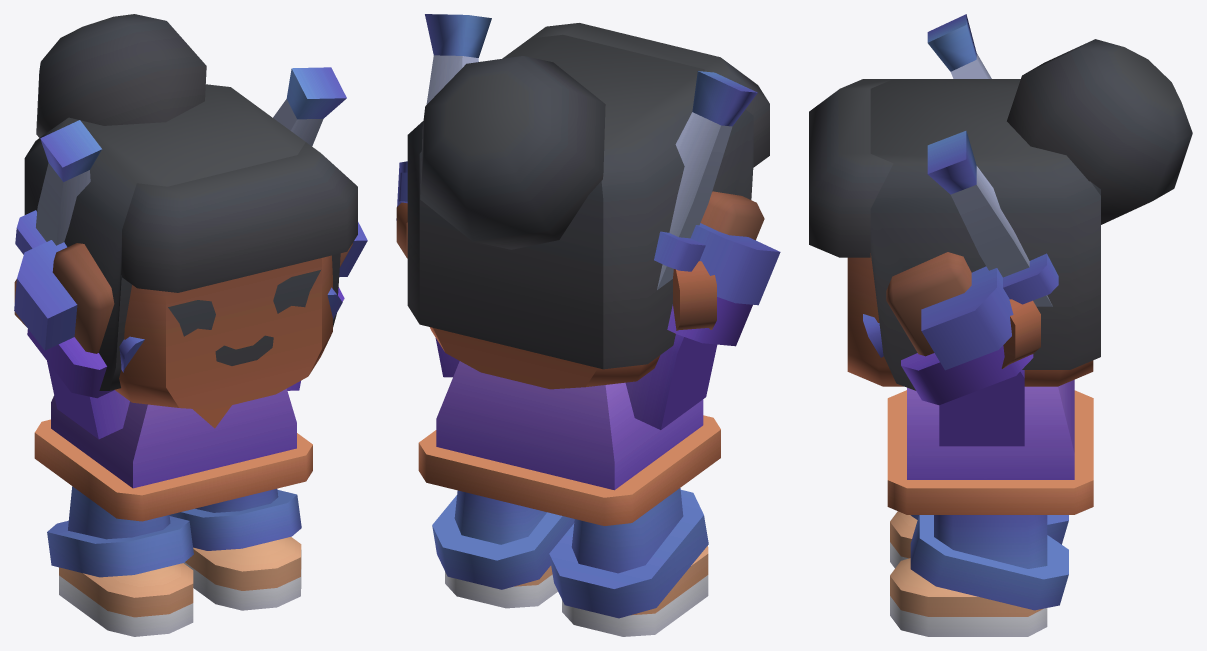
The model's file is people-female-a-idle.glb.
The picture shows the model from 3 angles, left to right: view 1: azimuth 30°, elevation 25°; view 2: azimuth 150°, elevation 25°; view 3: azimuth 270°, elevation 25°; orthographic projection. The views are drawn at different scales.
Parts seen in each view (by area): view 1: character-female-a-idle; view 2: character-female-a-idle; view 3: character-female-a-idle.
Boxes of the visible parts, <box> form: character-female-a-idle: <box>14,14,367,636</box>; character-female-a-idle: <box>396,14,780,636</box>; character-female-a-idle: <box>809,14,1192,636</box>.
Bounding box in the file's own units: 0.5064 × 0.7755 × 0.4995.
Materials: 1 (1 with a texture image).
